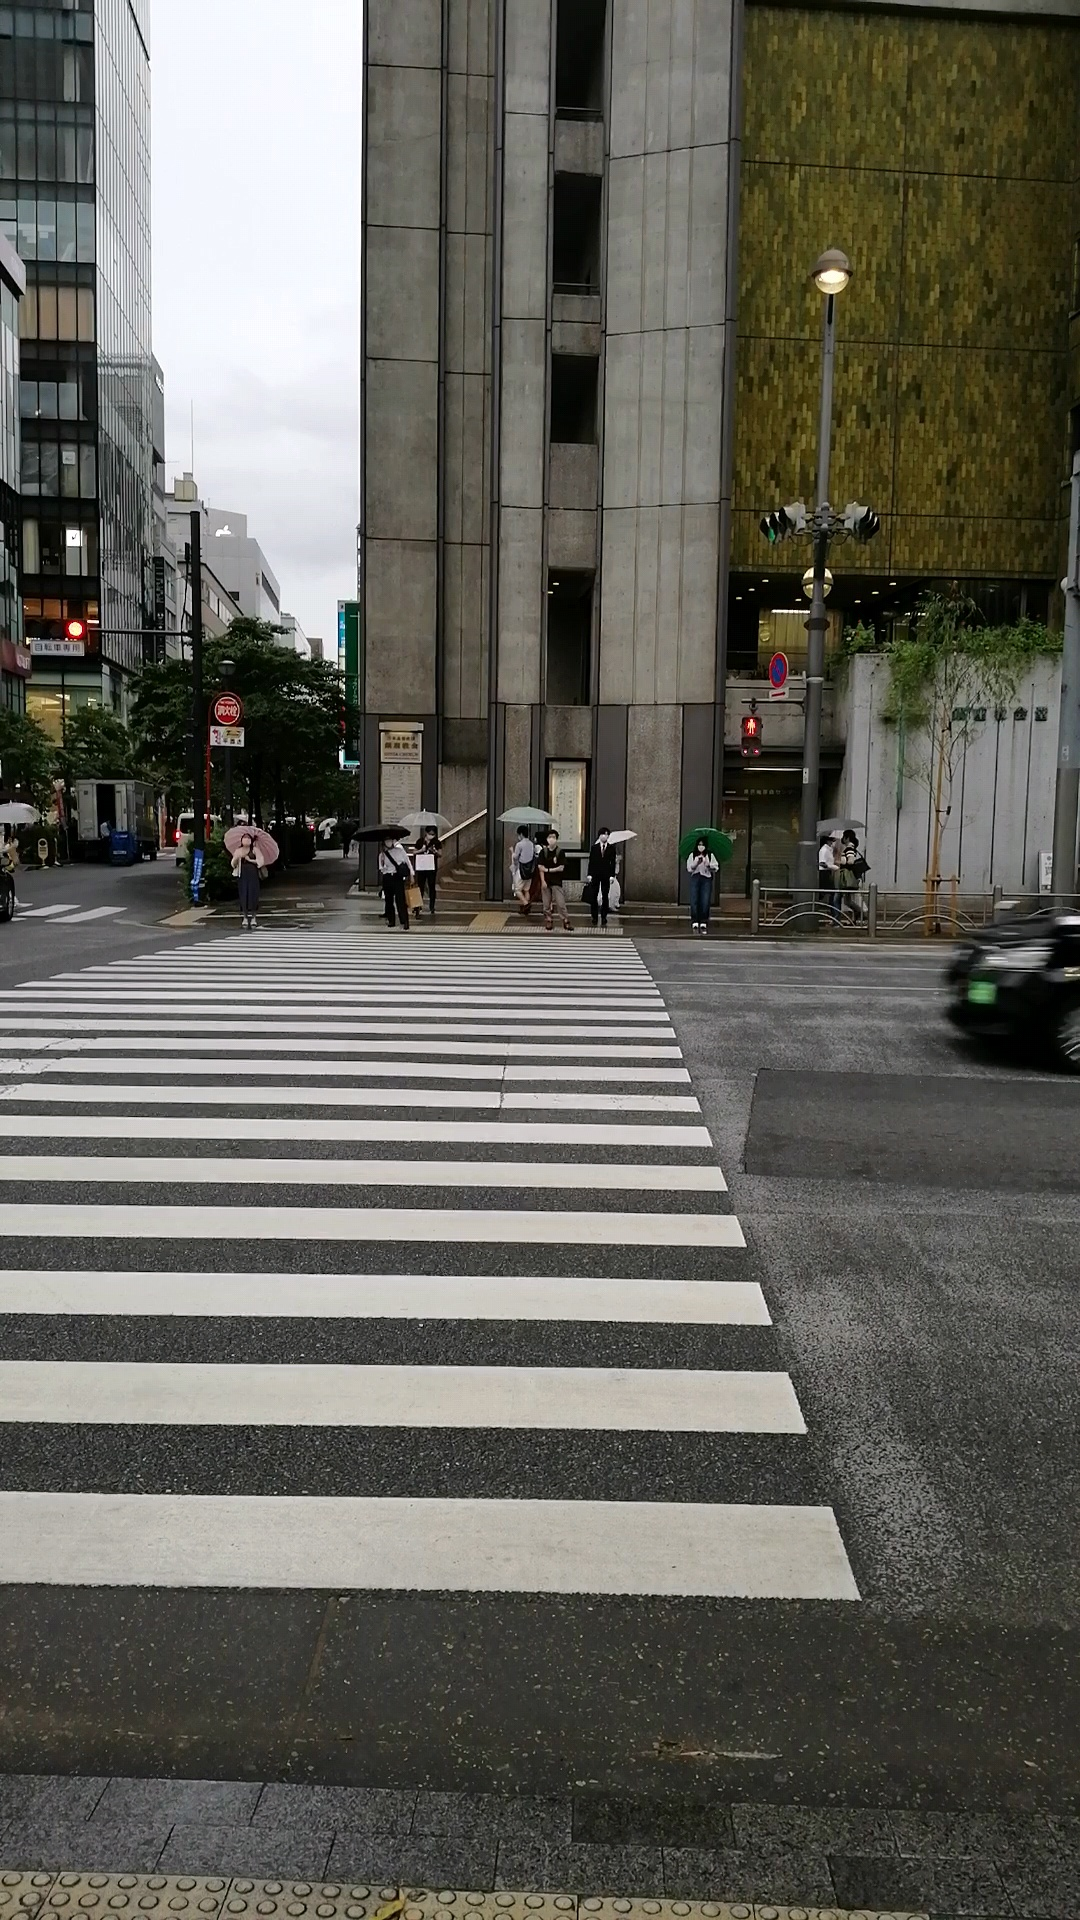red: (738, 713, 760, 758)
